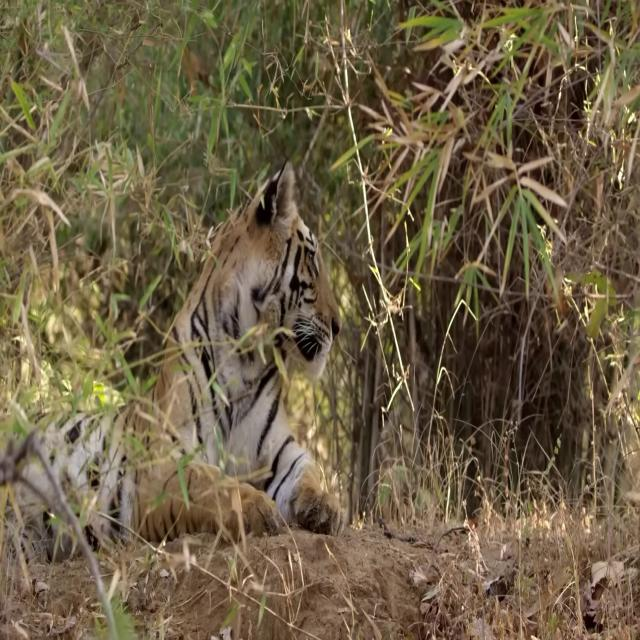tiger: (1, 158, 347, 540)
